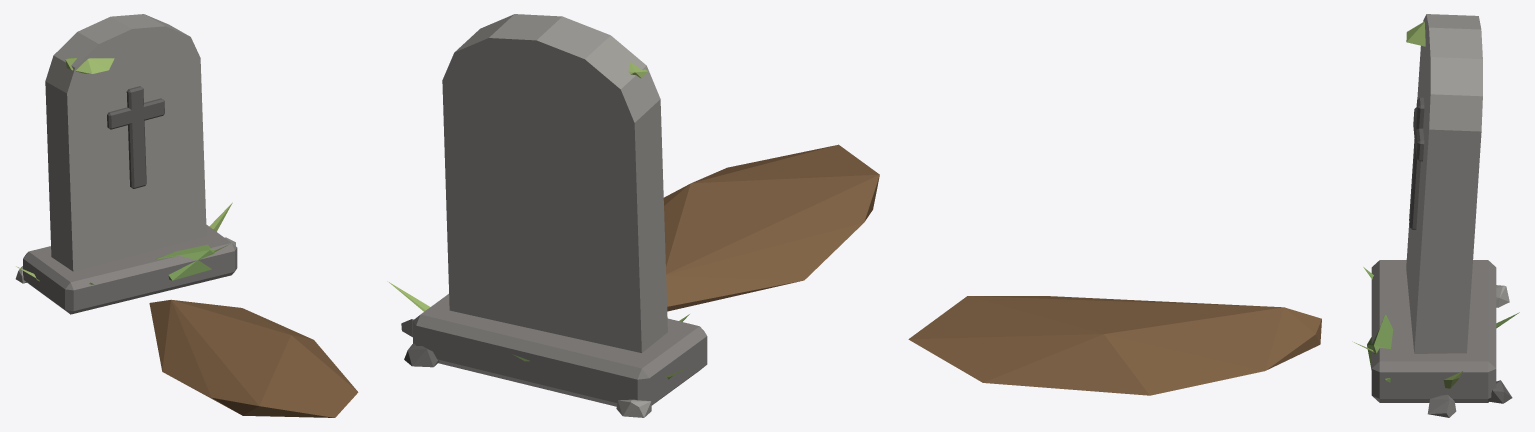
The model's file is tombstone.glb.
3 renders of one model, left to right at view 1: azimuth 30°, elevation 25°; view 2: azimuth 150°, elevation 25°; view 3: azimuth 270°, elevation 25°, orthographic. The views are drawn at different scales.
Parts seen in each view (by area): view 1: Tombstone; view 2: Tombstone; view 3: Tombstone.
Boxes of the visible parts, x1,y1,x2,y2 form: Tombstone: (15, 14, 358, 417); Tombstone: (387, 14, 879, 417); Tombstone: (908, 14, 1519, 417).
Size of the model in its own units: 0.9944 by 1.09 by 1.86.
